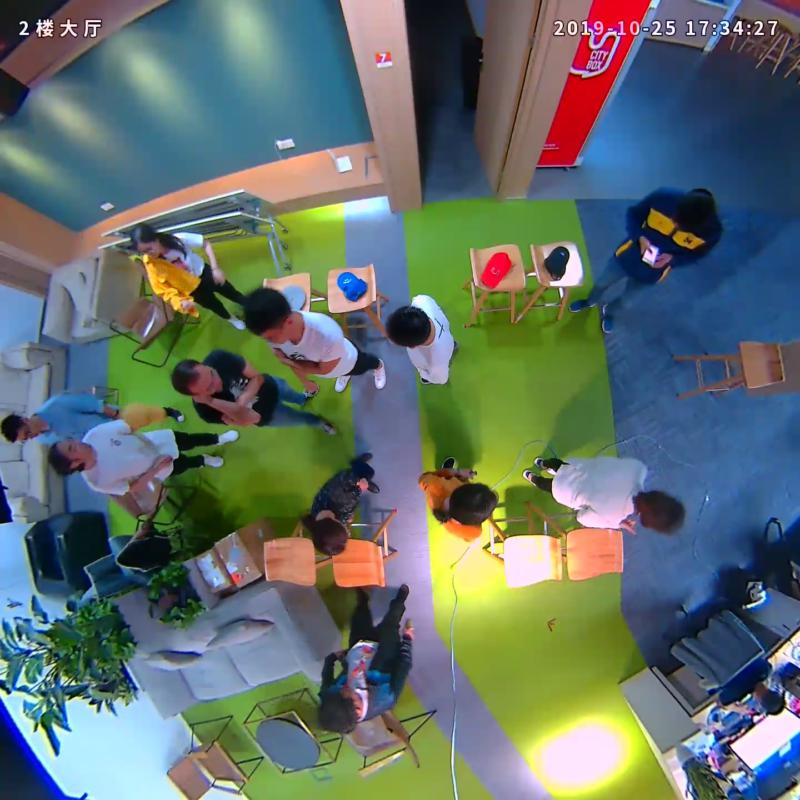head: (243, 286, 294, 344), (317, 684, 362, 734), (170, 357, 224, 397), (636, 489, 684, 534), (448, 483, 498, 526), (386, 305, 432, 349), (673, 188, 715, 232), (309, 517, 350, 556), (49, 439, 97, 472), (1, 412, 39, 443), (129, 222, 161, 258)
